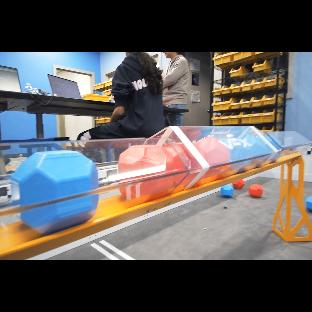Autolimit: (99, 240, 136, 260), (90, 243, 120, 260)
Goal: (0, 126, 312, 260)
V5_BLUE: (11, 150, 99, 206), (21, 194, 98, 235), (219, 134, 282, 173), (221, 184, 234, 198), (306, 196, 312, 211)
V5_RED: (118, 143, 198, 173), (191, 137, 233, 188), (130, 173, 198, 203), (248, 184, 263, 198), (232, 180, 245, 189)
blueingoal: (11, 150, 99, 206), (21, 194, 99, 235), (219, 134, 282, 164)
redingoal: (118, 143, 201, 203), (118, 142, 201, 174), (119, 172, 200, 204), (191, 137, 232, 187), (195, 137, 230, 164), (191, 165, 231, 187)
